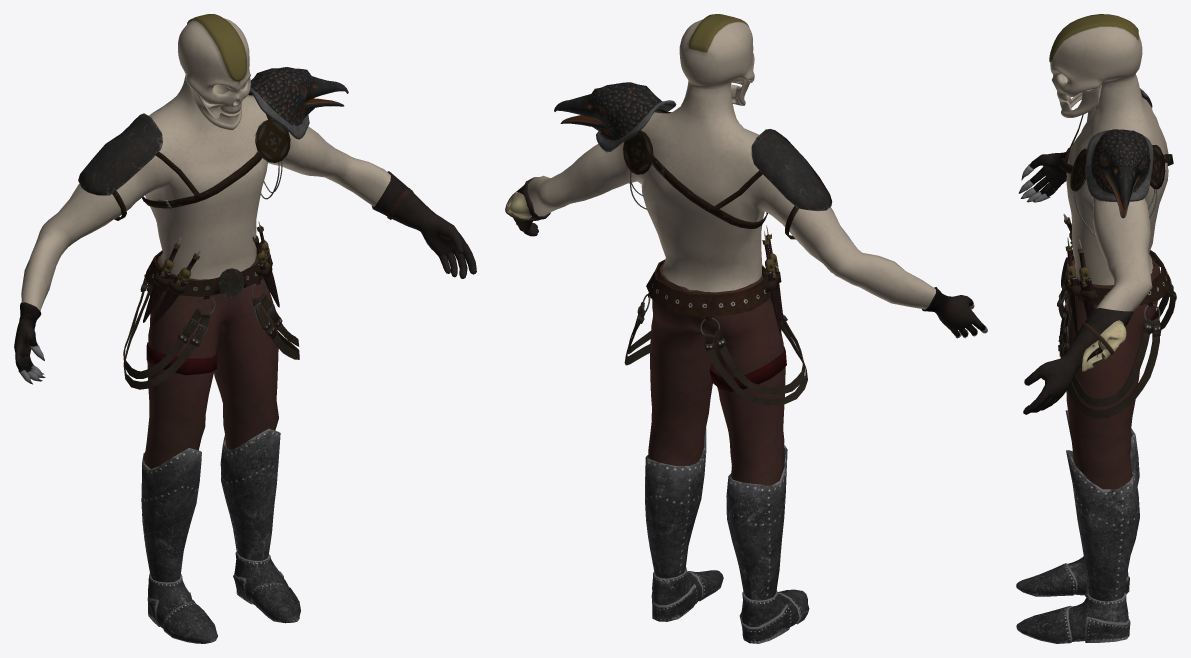
File: Man.glb
3 renders of one model, left to right at view 1: azimuth 30°, elevation 25°; view 2: azimuth 150°, elevation 25°; view 3: azimuth 270°, elevation 25°, orthographic. The views are drawn at different scales.
Visible parts, largest first — view 1: budy.001, Pants, shoes.R, shoes.L, shoulder, Belt, crow.shoulder, Gloves.L, Gloves.R; view 2: budy.001, Pants, shoes.R, shoes.L, shoulder, Belt, crow.shoulder, Gloves.R, Gloves.L; view 3: budy.001, shoes.L, Pants, Belt, crow.shoulder, Gloves.L, shoes.R, shoulder, Gloves.R, coil.3, dagger.1, coil.1 (+1 smaller).
Boxes of the visible parts, bbox=[...] form: budy.001: bbox=[21, 14, 390, 311]; Pants: bbox=[143, 253, 278, 468]; shoes.R: bbox=[141, 448, 217, 643]; shoes.L: bbox=[220, 428, 300, 623]; shoulder: bbox=[78, 92, 290, 220]; Belt: bbox=[123, 249, 299, 389]; crow.shoulder: bbox=[250, 67, 348, 139]; Gloves.L: bbox=[371, 171, 476, 278]; Gloves.R: bbox=[14, 302, 45, 384]; budy.001: bbox=[527, 14, 935, 309]; Pants: bbox=[648, 262, 786, 485]; shoes.R: bbox=[726, 444, 809, 643]; shoes.L: bbox=[645, 428, 723, 621]; shoulder: bbox=[623, 109, 832, 239]; Belt: bbox=[624, 259, 807, 404]; crow.shoulder: bbox=[554, 82, 676, 152]; Gloves.R: bbox=[922, 287, 987, 338]; Gloves.L: bbox=[505, 177, 550, 236]; budy.001: bbox=[1049, 14, 1168, 311]; shoes.L: bbox=[1016, 450, 1139, 643]; Pants: bbox=[1066, 252, 1160, 489]; Belt: bbox=[1057, 245, 1176, 418]; crow.shoulder: bbox=[1085, 129, 1153, 218]; Gloves.L: bbox=[1023, 308, 1133, 414]; shoes.R: bbox=[1016, 410, 1139, 596]; shoulder: bbox=[1059, 88, 1173, 236]; Gloves.R: bbox=[1018, 147, 1069, 202]; coil.3: bbox=[1068, 279, 1078, 335]; dagger.1: bbox=[1077, 239, 1091, 282]; coil.1: bbox=[1080, 280, 1094, 317].
Size of the model in its own units: 1.51 by 1.86 by 0.4538.
Materials: 8 (8 with a texture image).
